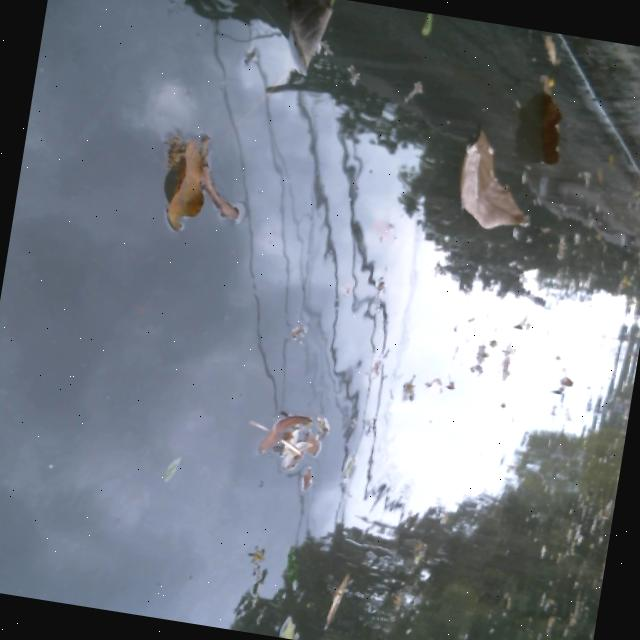Big-leaf: (445, 126, 546, 241), (149, 129, 228, 234), (261, 0, 347, 82), (515, 73, 583, 170)
Small-leaf: (257, 402, 309, 460), (320, 568, 354, 633), (528, 30, 568, 66), (299, 411, 329, 457), (156, 451, 185, 487), (284, 316, 313, 349), (293, 464, 322, 494), (545, 373, 578, 398), (280, 428, 301, 467), (413, 11, 442, 39), (277, 613, 304, 640)
